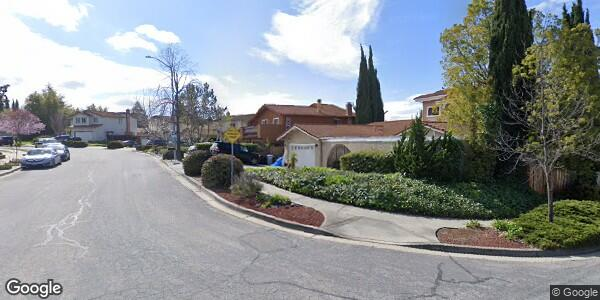Steel_Pole: (143, 53, 184, 162)
